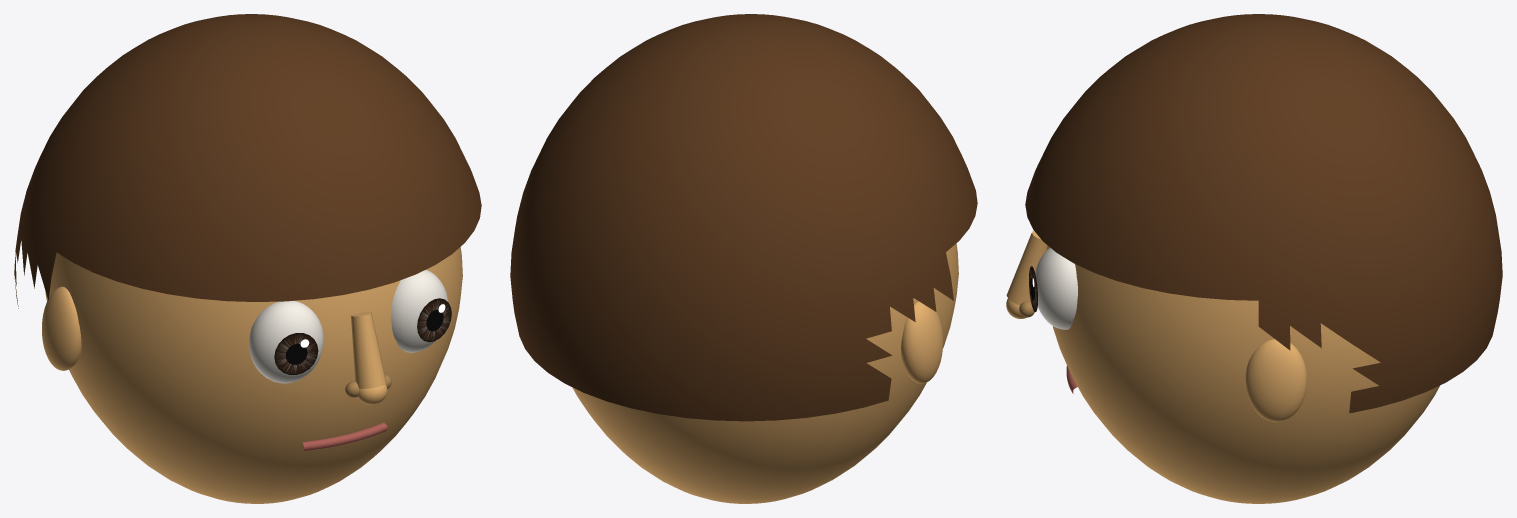
The model's file is homme-01-courts.glb.
3 views of the same model, side by side, from view 1: azimuth 30°, elevation 25°; view 2: azimuth 150°, elevation 25°; view 3: azimuth 270°, elevation 25° (orthographic).
Bounding box in the file's own units: 0.3205 × 0.341 × 0.3366.
Materials: 10 (1 with a texture image).
